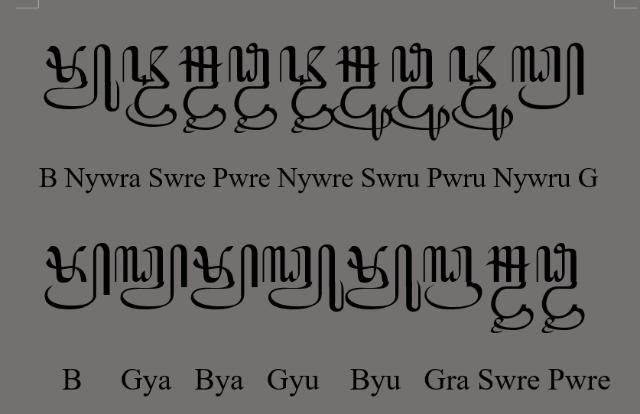-B: (43, 242, 111, 312)
-G: (512, 43, 584, 110)
By: (190, 243, 260, 310)
Byu: (42, 42, 120, 112), (346, 244, 422, 314)
Gr: (423, 246, 482, 310)
Gy: (114, 243, 188, 311)
Gyu: (262, 243, 346, 312)
Nywr: (120, 44, 178, 128)
Nywre: (280, 44, 334, 134)
Nywru: (448, 44, 514, 142)
Pwre: (228, 42, 278, 134), (537, 242, 585, 334)
Pwru: (389, 42, 451, 142)
Swre: (178, 45, 228, 134), (486, 246, 534, 334)
Swru: (331, 44, 392, 142)
